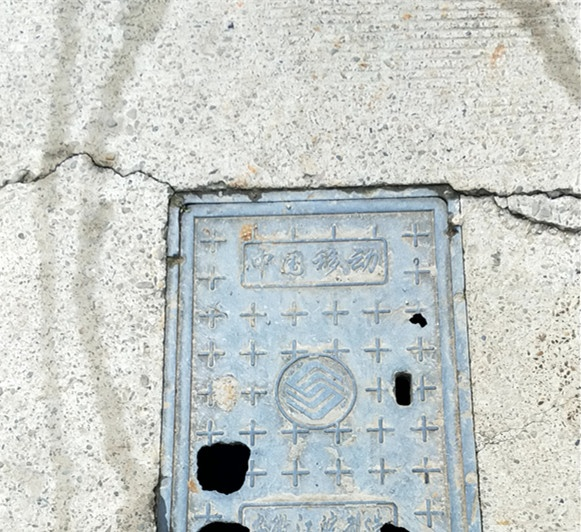broke: (157, 187, 484, 532)
